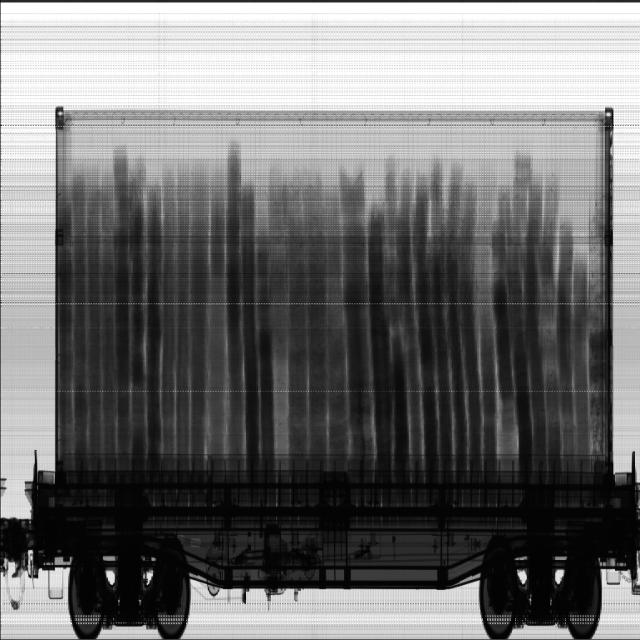tetiles: (56, 142, 606, 458)
